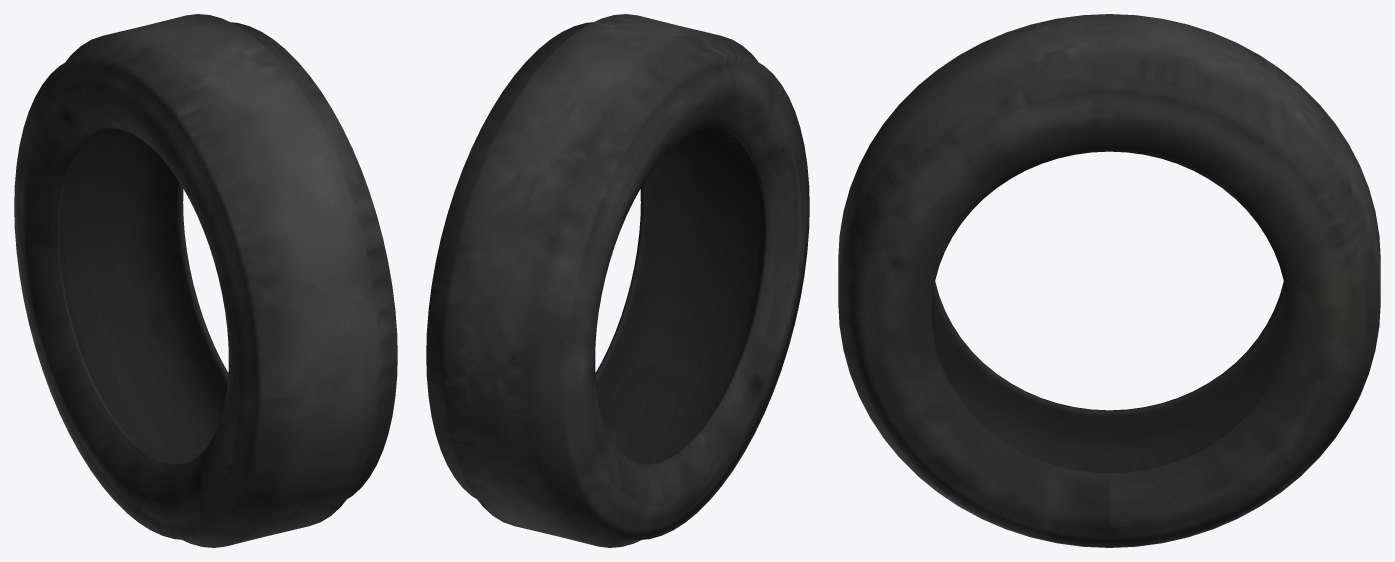
The model's file is SM_tire1_4f98b1.glb.
3 renders of one model, left to right at view 1: azimuth 30°, elevation 25°; view 2: azimuth 150°, elevation 25°; view 3: azimuth 270°, elevation 25°, orthographic. The views are drawn at different scales.
Bounding box in the file's own units: 0.3036 × 0.9036 × 0.9036.
1 material, 1 textured.
